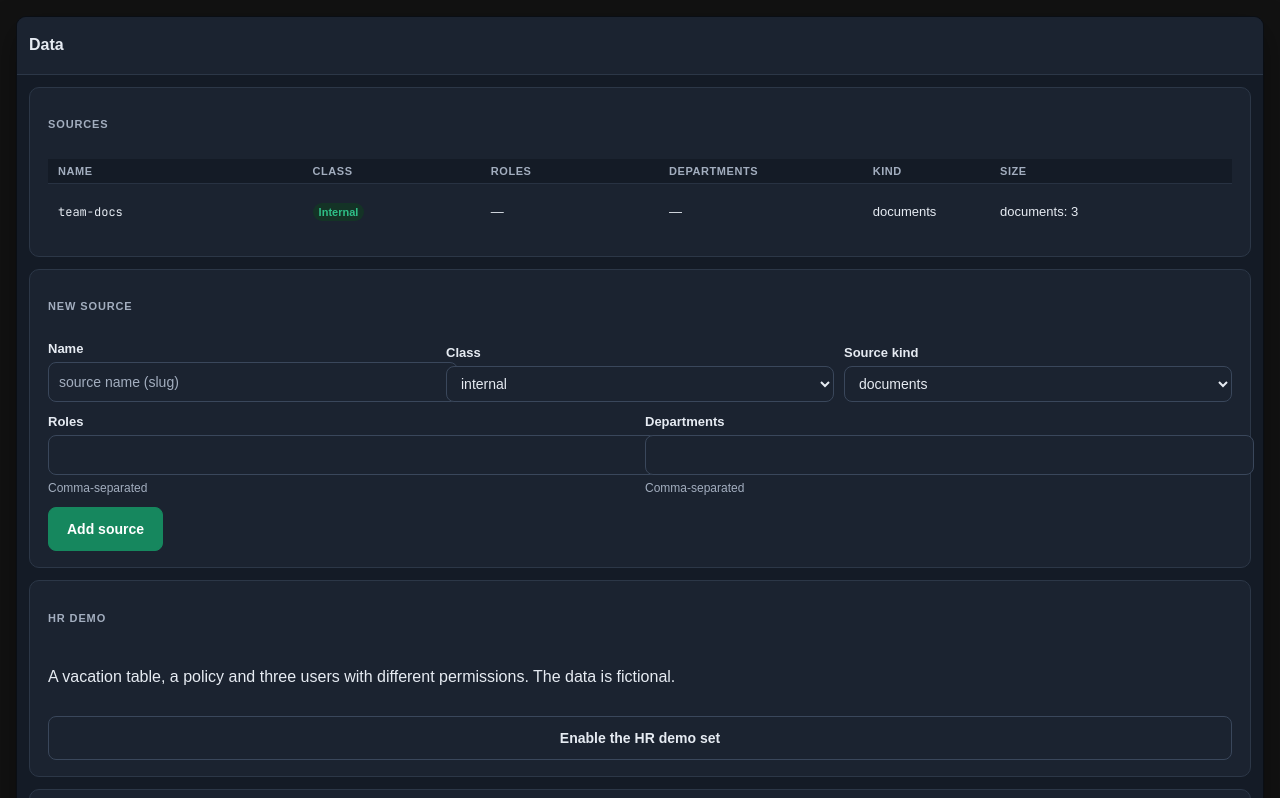
it: Data › creates a table source
Type "hr-vacations" into the field with placeholder "source name (slug)" at (253, 382), box [48,362,458,402]
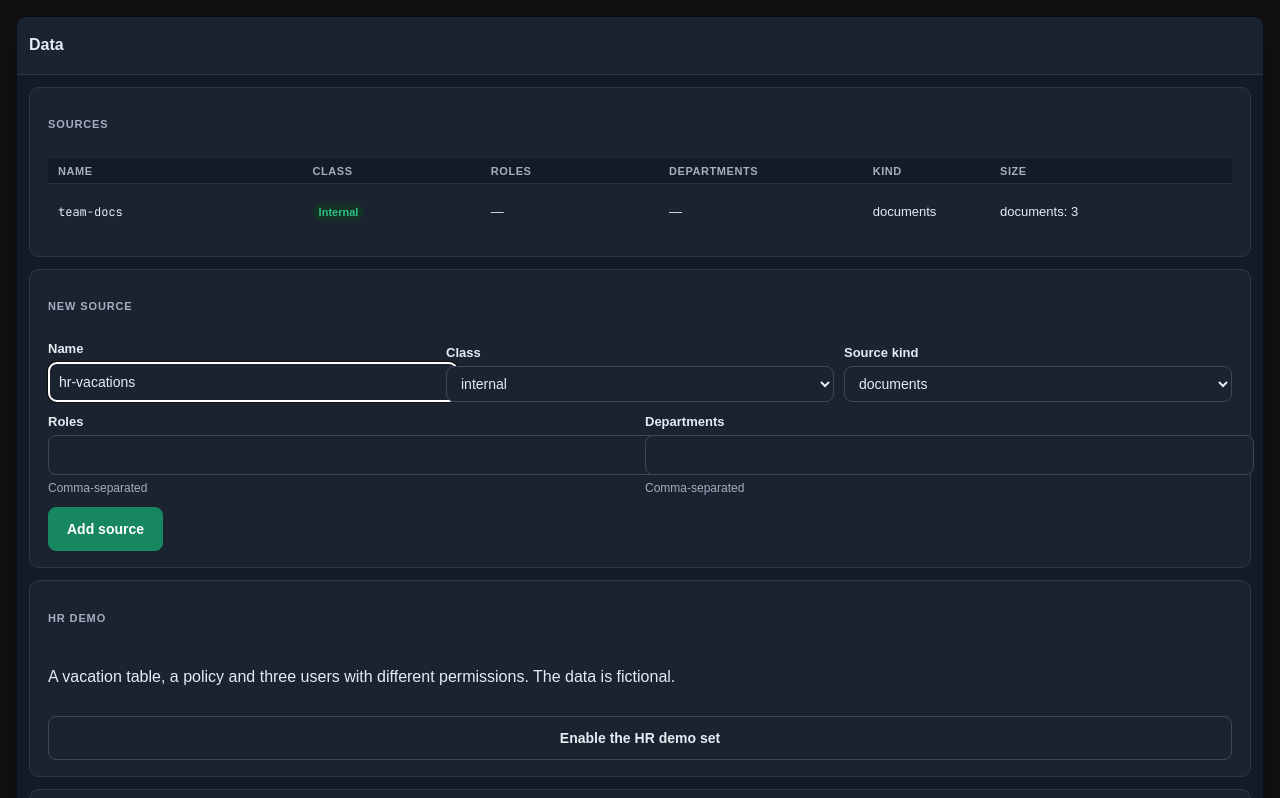
Select "table" in the dropdown labelled "Source kind" at (1038, 384), box [844,366,1232,402]
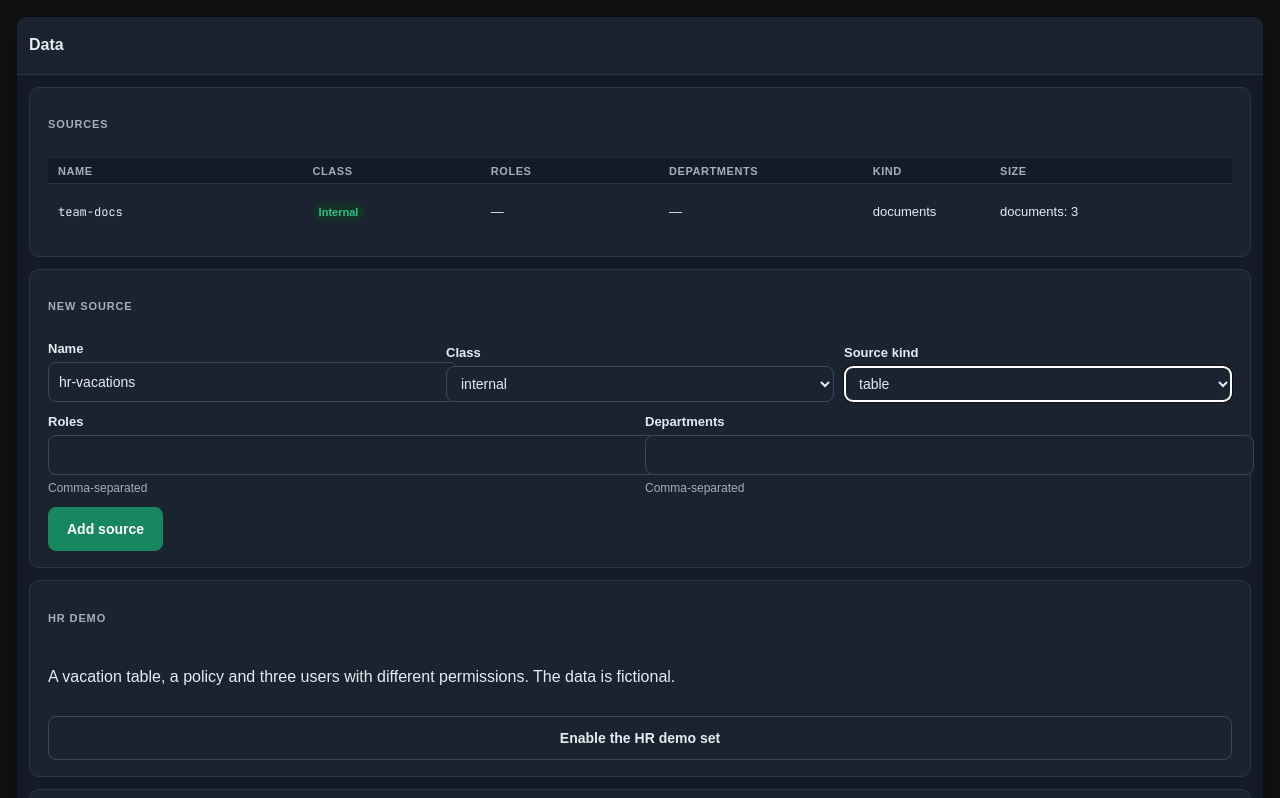
Click the button "Add source" at (106, 529), box [48,507,163,551]
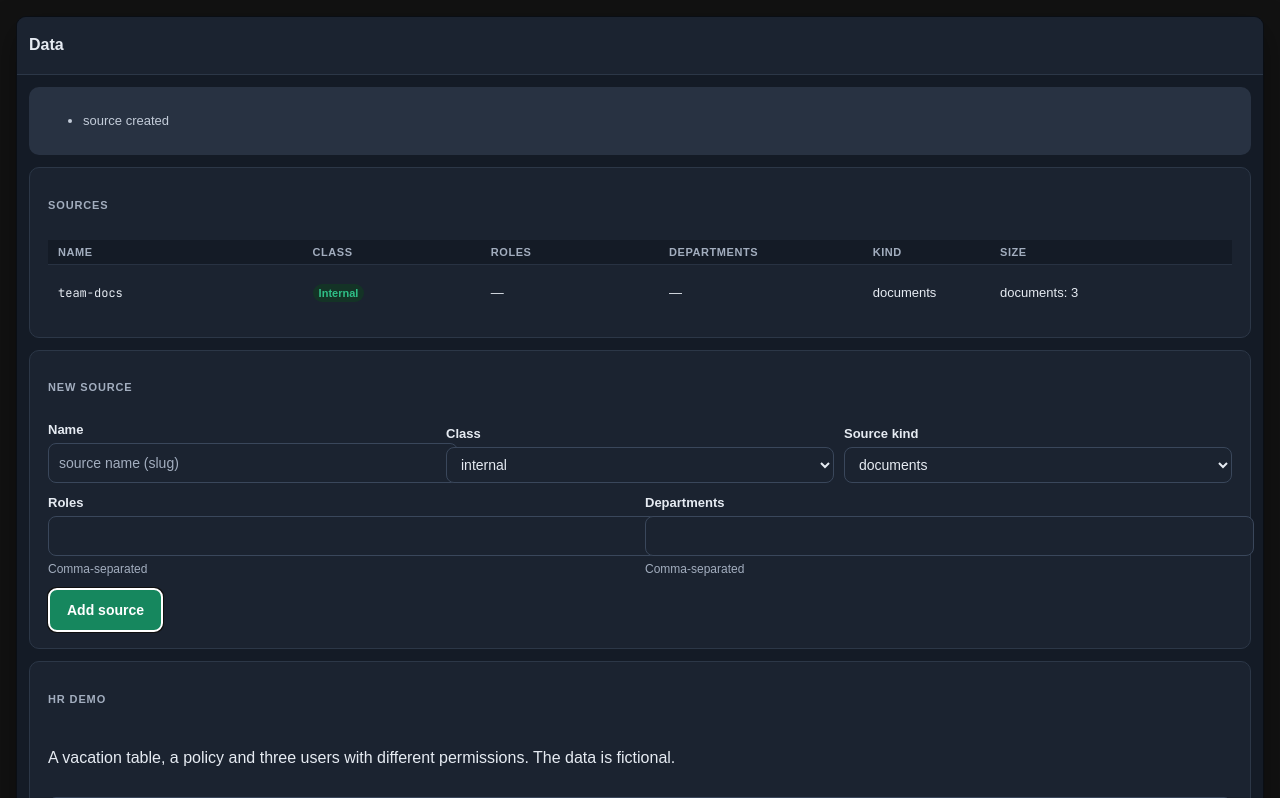
Expected: the list item "source created" is shown, [83,112,169,128]
